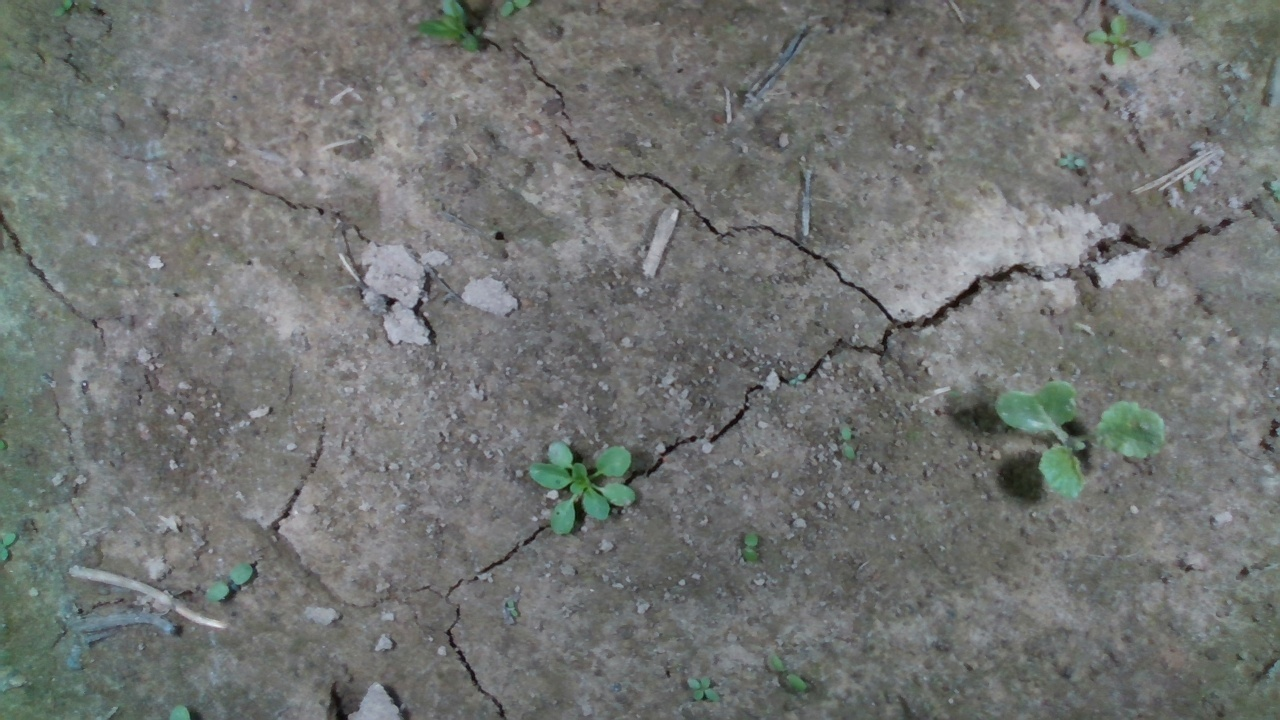weed: (206, 562, 257, 602), (765, 654, 811, 695), (830, 424, 867, 460), (684, 675, 721, 704), (737, 531, 764, 565), (1053, 149, 1089, 172)
